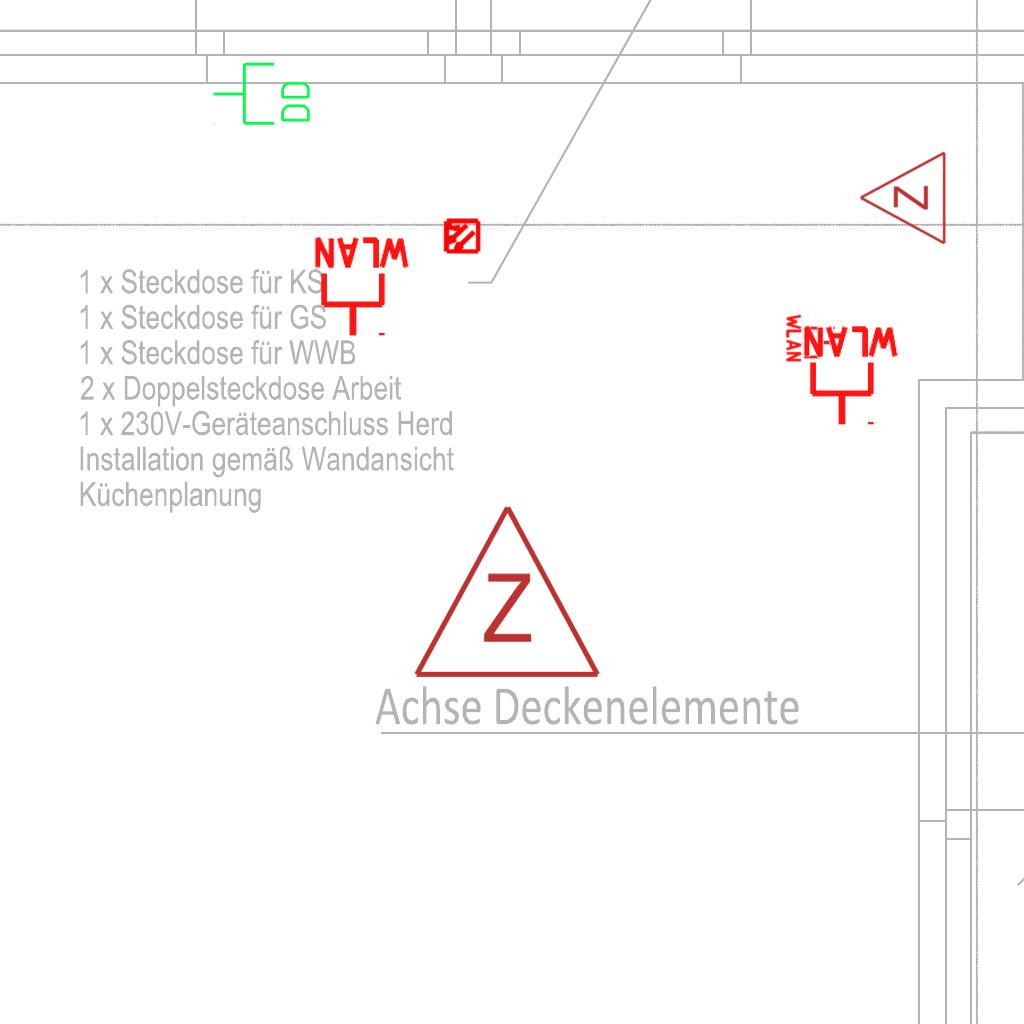Datenanschluss_zweifach: (211, 60, 314, 129)
OT_Multisensormelder_(Kombination_RMO_WMD): (433, 208, 489, 264)
WLAN: (310, 235, 414, 340), (799, 324, 903, 429), (785, 312, 837, 364)
Zimmersignalleuchte: (407, 492, 603, 692), (853, 150, 953, 248)
